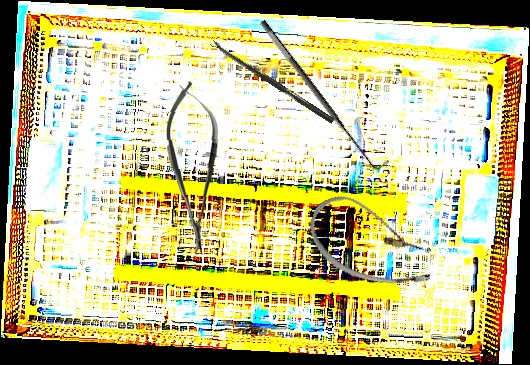Cannula: (298, 187, 447, 300)
Hook Surgical: (257, 10, 391, 178)
Micro Scissor: (162, 79, 224, 258)
Surgical Spoon: (209, 39, 336, 124)
